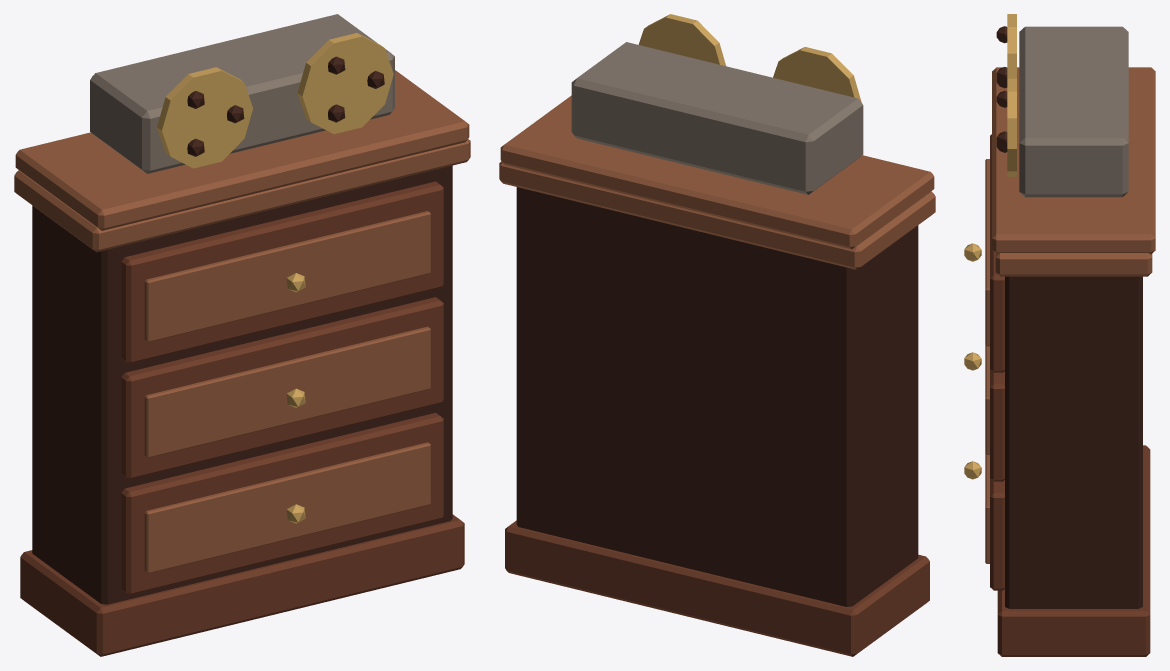
The model's file is record_station_03.glb.
The picture shows the model from 3 angles, left to right: view 1: azimuth 30°, elevation 25°; view 2: azimuth 150°, elevation 25°; view 3: azimuth 270°, elevation 25°; orthographic projection. The views are drawn at different scales.
Visible parts, largest first — view 1: Case, Case_Body, Top, Case_Plinth, Recorder, Case_Top, Reel, Reel_001; view 2: Case_Body, Recorder, Top, Case_Plinth, Case_Top, Reel_001, Reel; view 3: Case_Body, Recorder, Top, Case_Plinth, Case, Case_Top, Reel_001, Reel.
Part boxes in pixels (x1,y1,x2,y2): Case: [121, 181, 443, 595]; Case_Body: [32, 165, 452, 604]; Top: [15, 70, 469, 230]; Case_Plinth: [20, 514, 464, 656]; Recorder: [90, 14, 394, 173]; Case_Top: [14, 139, 470, 252]; Reel: [157, 67, 253, 168]; Reel_001: [297, 33, 393, 134]; Case_Body: [516, 187, 918, 606]; Recorder: [571, 42, 863, 194]; Top: [500, 95, 934, 249]; Case_Plinth: [505, 520, 929, 656]; Case_Top: [499, 161, 935, 269]; Reel_001: [638, 14, 725, 65]; Reel: [773, 47, 861, 101]; Case_Body: [1005, 276, 1142, 608]; Recorder: [1019, 26, 1128, 197]; Top: [992, 67, 1155, 254]; Case_Plinth: [997, 445, 1150, 656]; Case: [964, 134, 1004, 590]; Case_Top: [995, 253, 1152, 276]; Reel_001: [1007, 78, 1016, 176]; Reel: [1007, 14, 1016, 78].
Bounding box in the file's own units: 1.13 × 1.58 × 0.5268.
